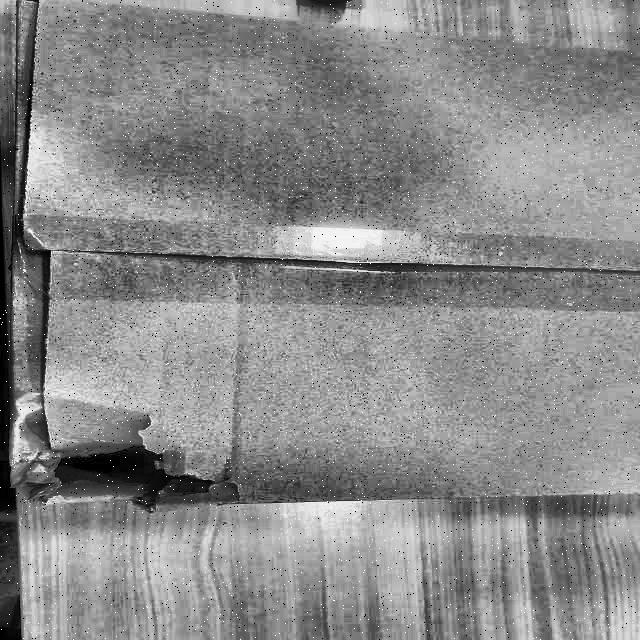box: (5, 1, 639, 509)
hole: (16, 423, 226, 503)
